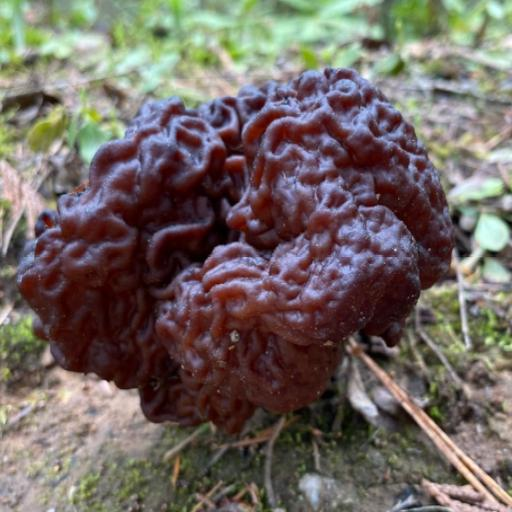False Morel: (0, 1, 502, 506)
